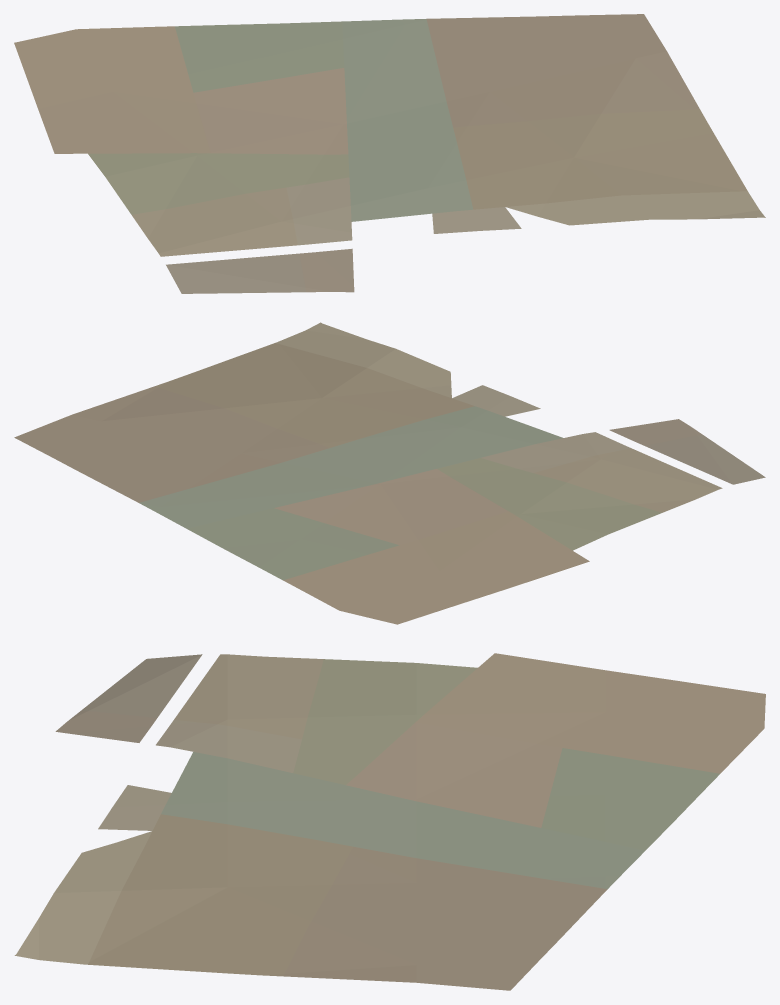
The model's file is farm_9_15_soil.glb.
3 views of the same model, one above another, from view 1: azimuth 30°, elevation 25°; view 2: azimuth 150°, elevation 25°; view 3: azimuth 270°, elevation 25° (orthographic). The views are drawn at different scales.
Visible parts, largest first — view 1: geometry_0; view 2: geometry_0; view 3: geometry_0.
Part boxes in pixels (bbox=[...]): geometry_0: bbox=[14, 14, 765, 293]; geometry_0: bbox=[14, 322, 765, 624]; geometry_0: bbox=[14, 653, 765, 990].
Bounding box in the file's own units: 342 × 16.89 × 319.
